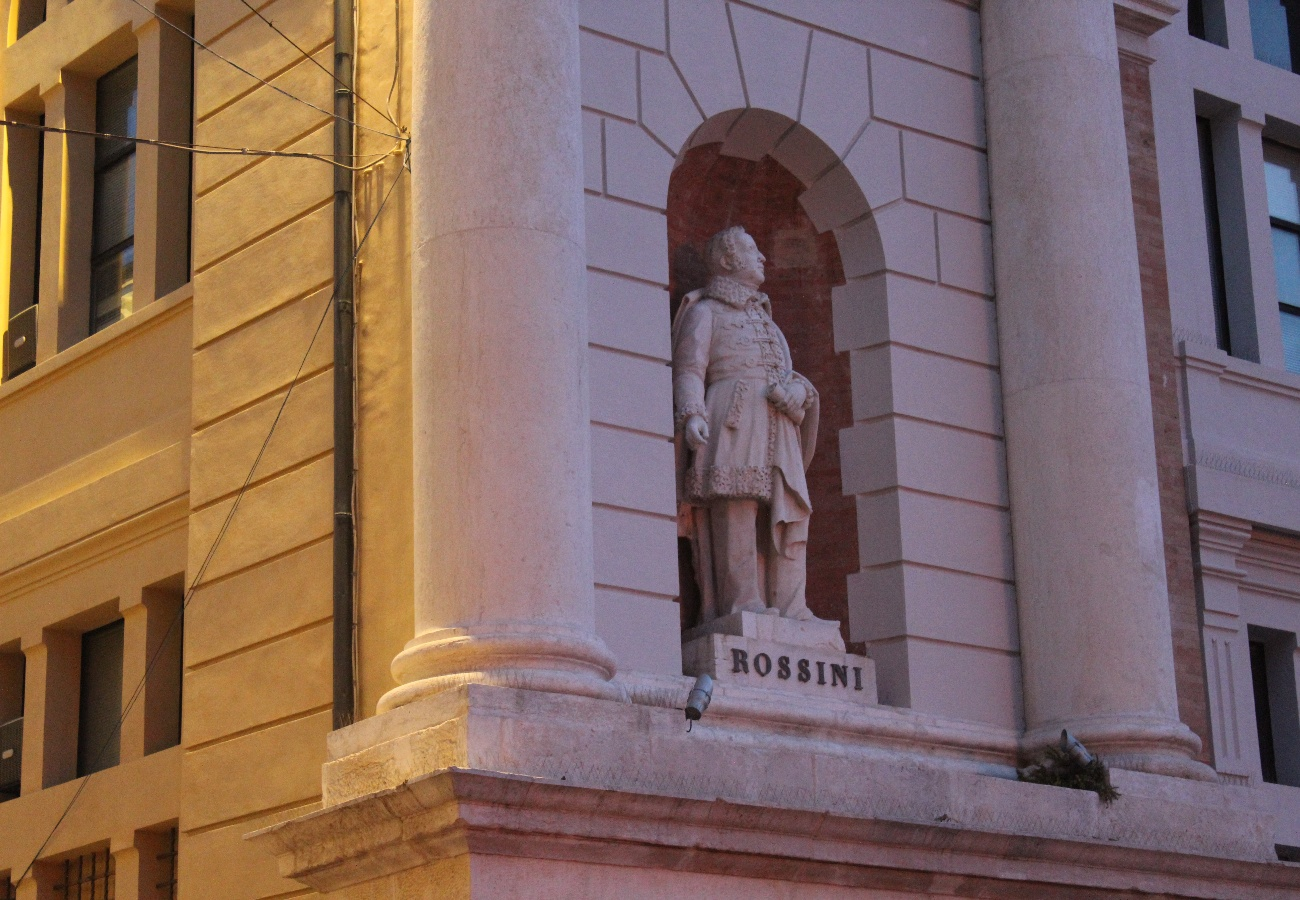Gioachino Rossini: (661, 104, 895, 722)
